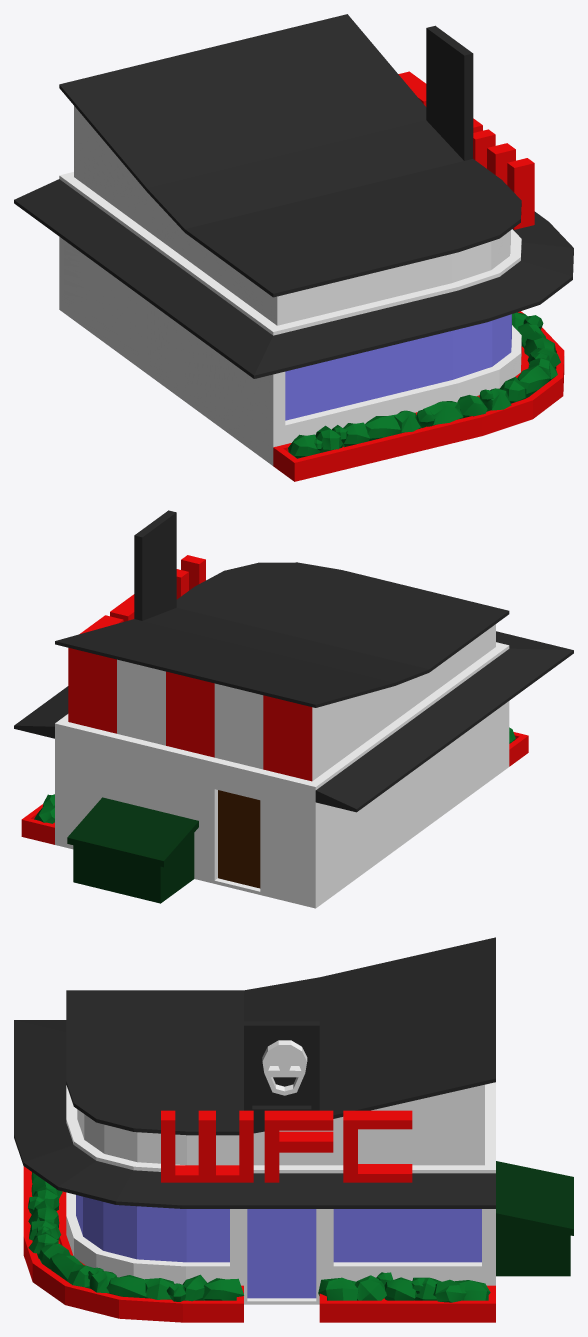
File: WFC.FBX
The picture shows the model from 3 angles, top to bottom: view 1: azimuth 30°, elevation 25°; view 2: azimuth 150°, elevation 25°; view 3: azimuth 270°, elevation 25°; orthographic projection. The views are drawn at different scales.
Parts seen in each view (by area): view 1: WFC; view 2: WFC; view 3: WFC.
Part boxes in pixels (x1,y1,x2,y2): WFC: (14,14,573,481); WFC: (14,510,573,908); WFC: (14,937,573,1322).
Bounding box in the file's own units: 362 × 254 × 462.
1 material, 1 textured.
